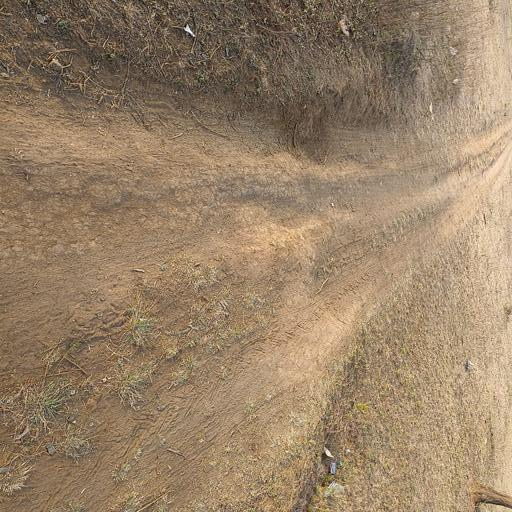vehicle_track: (18, 148, 511, 512), (0, 112, 512, 312)
